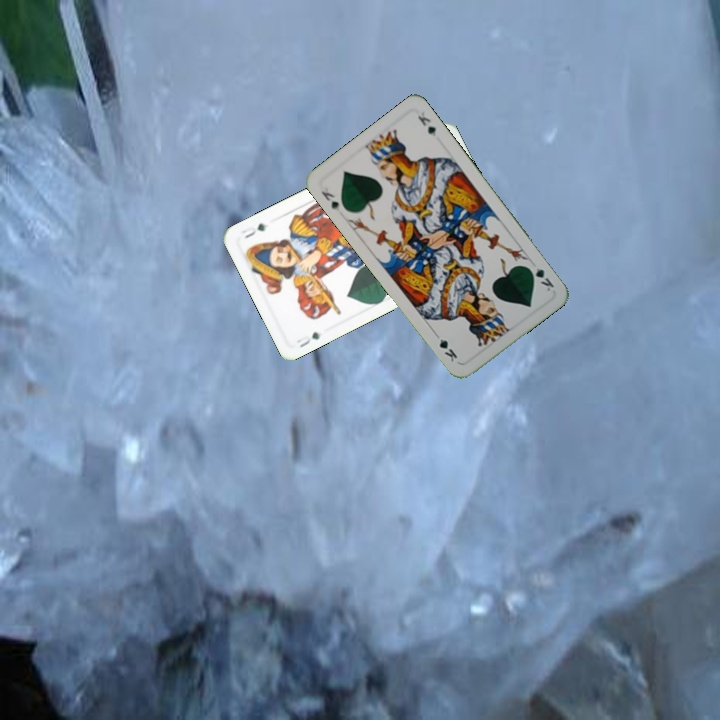GK: (523, 262, 557, 294), (317, 187, 343, 214)
GU: (293, 328, 323, 350)
